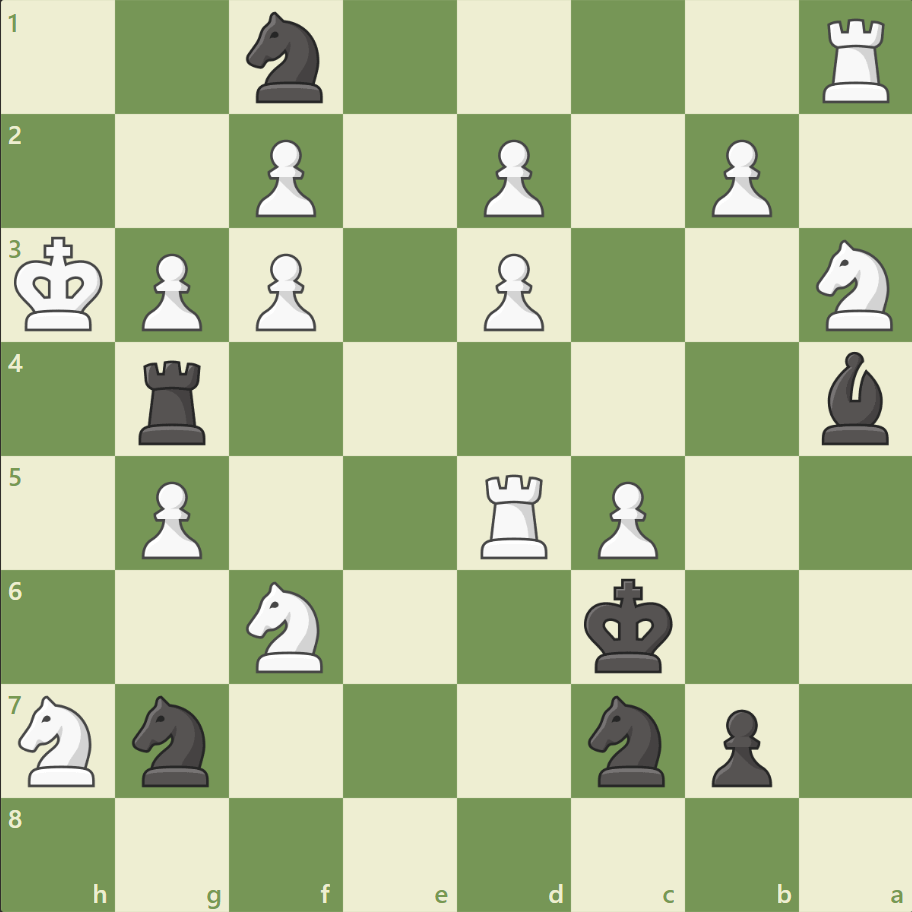K: (11, 231, 111, 339)
N: (11, 688, 108, 791), (806, 234, 903, 337), (238, 575, 335, 677)
P: (133, 473, 208, 564), (474, 246, 549, 337), (247, 246, 322, 337), (133, 246, 208, 337), (701, 132, 776, 223), (474, 132, 549, 223), (247, 132, 322, 223), (588, 473, 662, 564)
R: (473, 466, 556, 563), (814, 12, 897, 109)
b: (812, 347, 896, 449)
k: (579, 571, 679, 679)
n: (124, 688, 222, 791), (579, 688, 676, 791), (238, 7, 335, 110)
p: (701, 700, 776, 791)
r: (133, 352, 215, 449)
